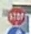stop: (7, 6, 27, 25)
